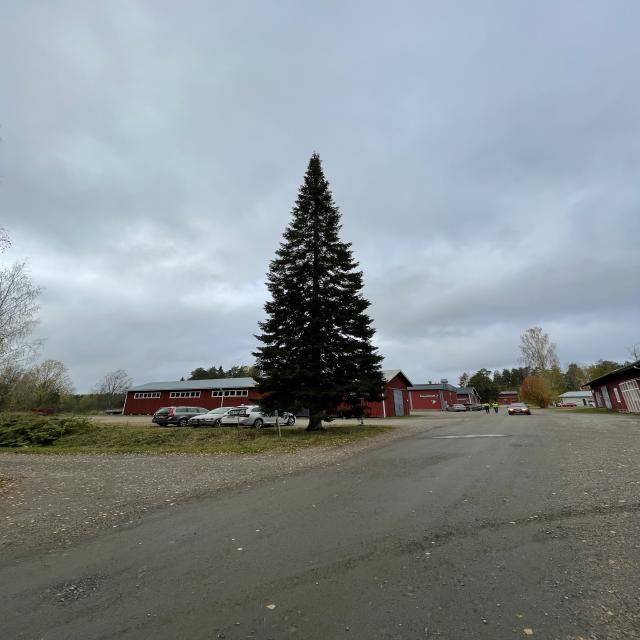spruce: (239, 133, 407, 444)
